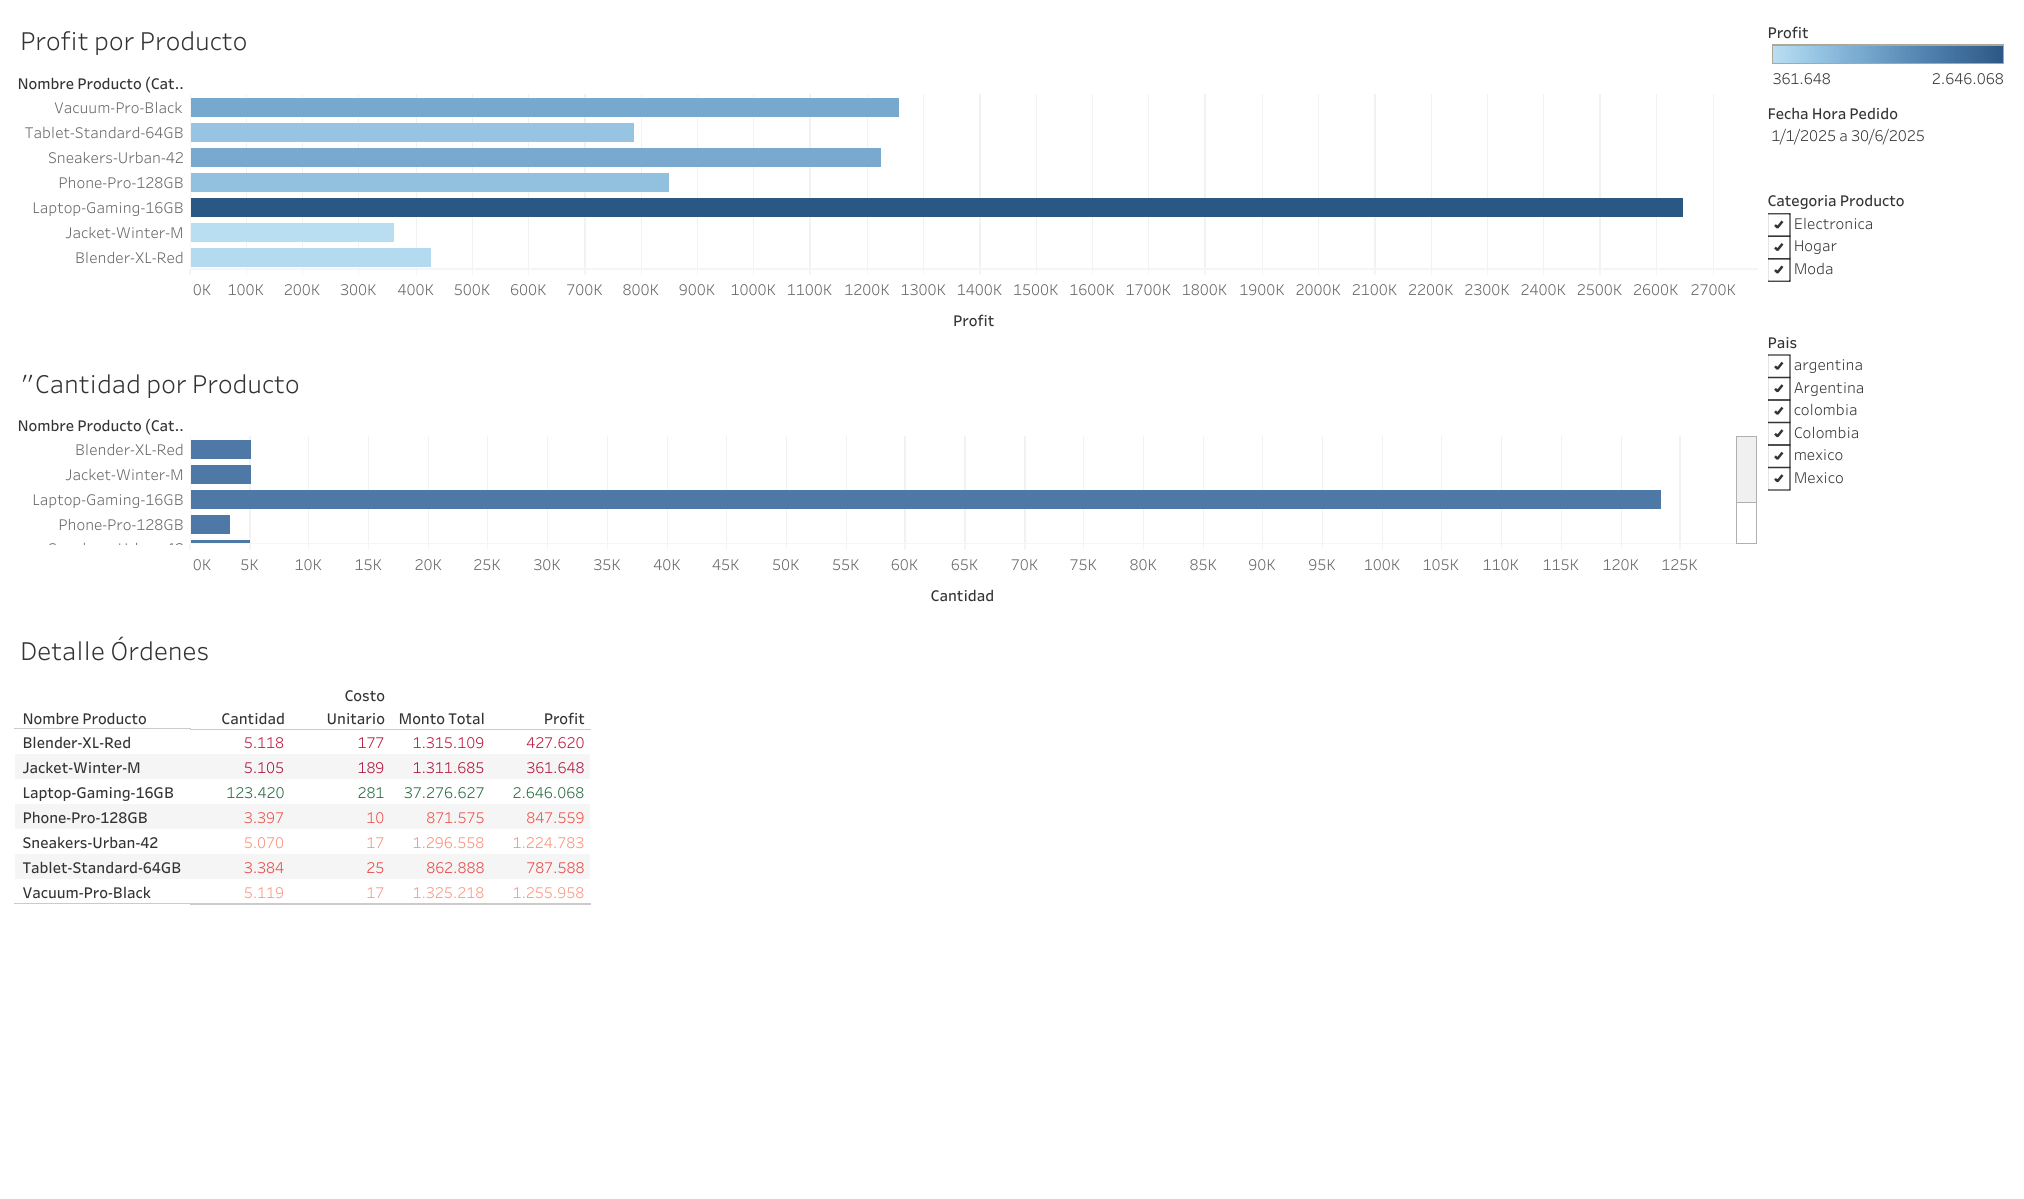

This screenshot's page, from the dashboard's own definition file:
{"tool":"tableau","page":{"name":"Dashboard 2 - Detalle.","canvas":[1000,1000],"units":"permille","ordinal":1},"visuals":[{"type":"worksheet","title":"Profit por Producto","mark":"Automatic","rows":["nombre_producto (catalog_clean.csv)"],"cols":["Calculation_1122614014083072"],"box":[4.9,8.3,865.4,285.4]},{"type":"legend","title":"Profit por Producto","param":"[federated.1jrt2v305cesg61fkdtlp01hajhd].[sum:Calculation_1122614014083072:qk]","box":[870.4,8.3,124.7,76]},{"type":"filter","title":"Detalle Órdenes","param":"[federated.1jrt2v305cesg61fkdtlp01hajhd].[none:fecha_hora_pedido:qk]","box":[870.4,84.4,124.7,76]},{"type":"filter","title":"Detalle Órdenes","param":"[federated.1jrt2v305cesg61fkdtlp01hajhd].[none:categoria_producto:nk]","box":[870.4,160.4,124.7,133.3]},{"type":"filter","title":"Detalle Órdenes","param":"[federated.1jrt2v305cesg61fkdtlp01hajhd].[none:pais:nk]","box":[870.4,293.7,124.7,205.2]},{"type":"worksheet","title":"\"Cantidad por Producto","mark":"Automatic","rows":["nombre_producto (catalog_clean.csv)"],"cols":["cantidad"],"box":[4.9,293.8,865.4,222.9]},{"type":"worksheet","title":"Detalle Órdenes","mark":"Automatic","rows":["nombre_producto"],"box":[4.9,516.7,865.4,314.6]}]}

Visuals, with their boxes on the dashboard's canvas, which has no fixed pixel size, in thousandths of its width and height (x1, y1, x2, y2). These are canvas units, not pixel positions in the 2024x1199 screenshot, which may show the page scaled, cropped or inside an application window:
"Profit por Producto" worksheet: 5, 8, 870, 294
"Profit por Producto" legend: 870, 8, 995, 84
"Detalle Órdenes" filter: 870, 84, 995, 160
"Detalle Órdenes" filter: 870, 160, 995, 294
"Detalle Órdenes" filter: 870, 294, 995, 499
""Cantidad por Producto" worksheet: 5, 294, 870, 517
"Detalle Órdenes" worksheet: 5, 517, 870, 831
